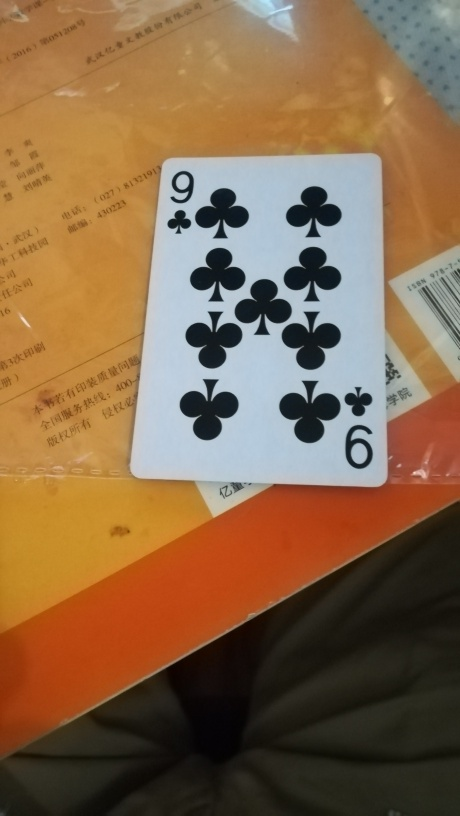mh 9: (125, 153, 389, 491)
